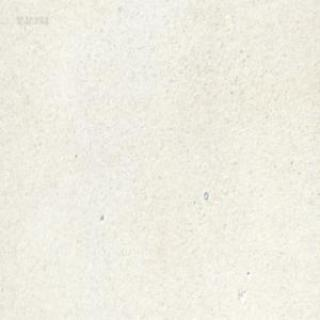Washertrack_idkeyframe: (202, 189, 208, 199)
